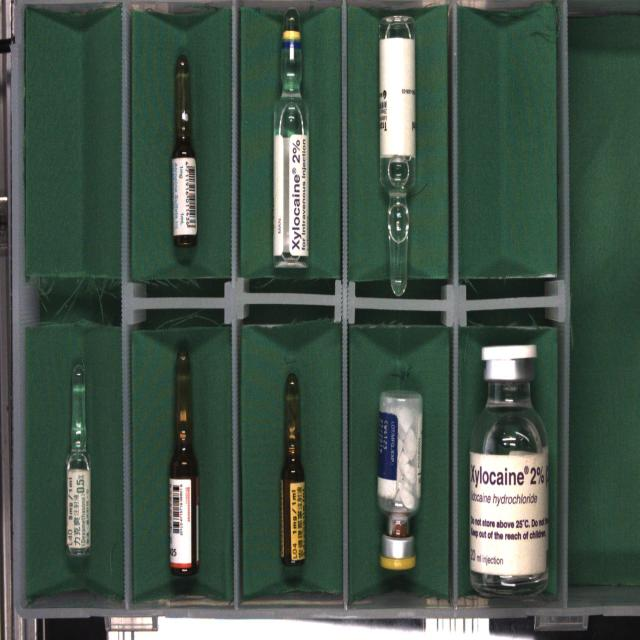Vials: (469, 344, 549, 595), (377, 393, 422, 569)
